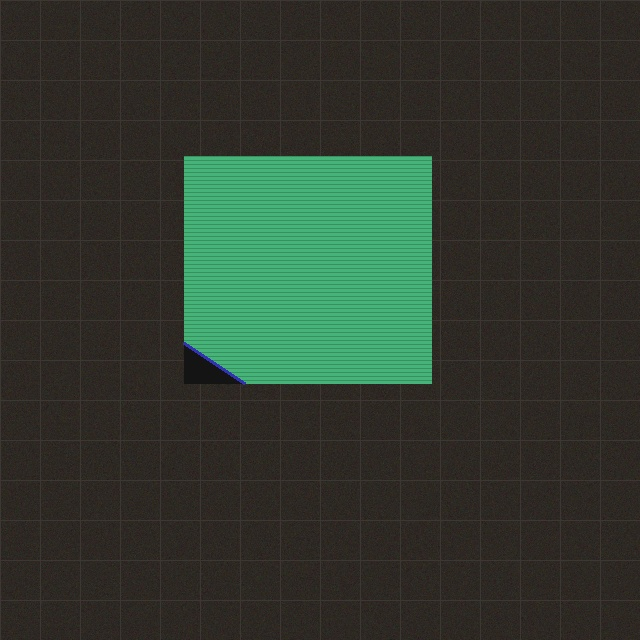warping: (174, 323, 264, 393)
